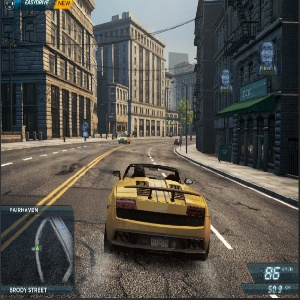ad: (261, 42, 278, 76), (221, 66, 235, 96), (82, 116, 89, 140)
electrical pole: (3, 32, 26, 142)
lamp post: (167, 72, 191, 156)
